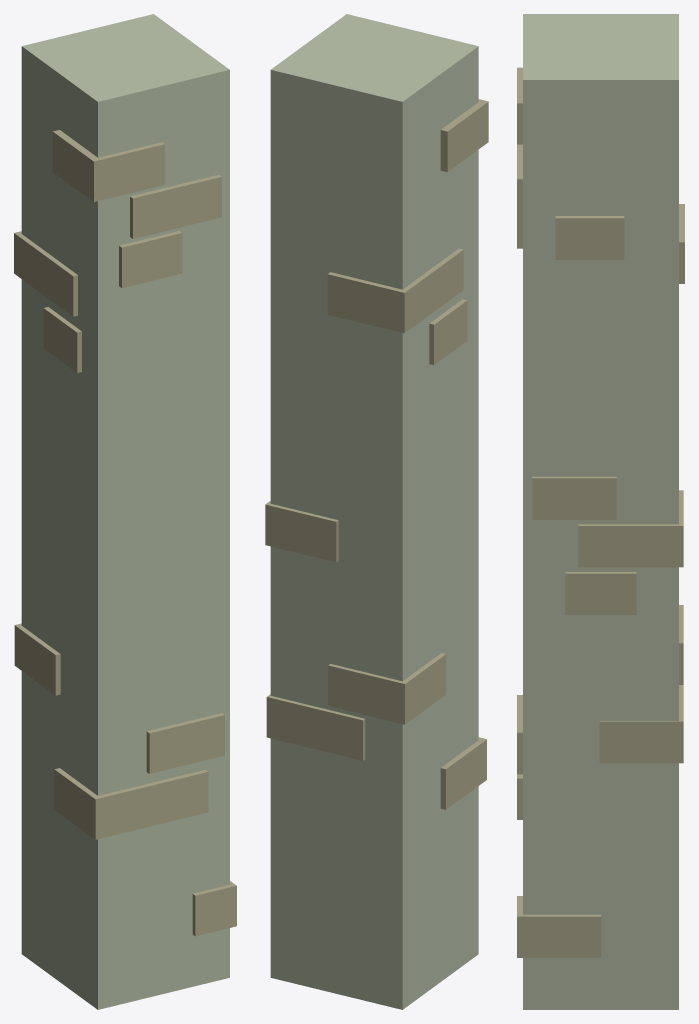
The model's file is pillar stone1.fbx.
3 renders of one model, left to right at view 1: azimuth 30°, elevation 25°; view 2: azimuth 150°, elevation 25°; view 3: azimuth 270°, elevation 25°, orthographic. The views are drawn at different scales.
Parts seen in each view (by area): view 1: Pillar1; view 2: Pillar1; view 3: Pillar1.
Boxes of the visible parts, x1=… form: Pillar1: x1=14, y1=14, x2=236, y2=1009; Pillar1: x1=265, y1=14, x2=488, y2=1009; Pillar1: x1=517, y1=14, x2=684, y2=1009.
Size of the model in its own units: 112 by 673 by 110.
